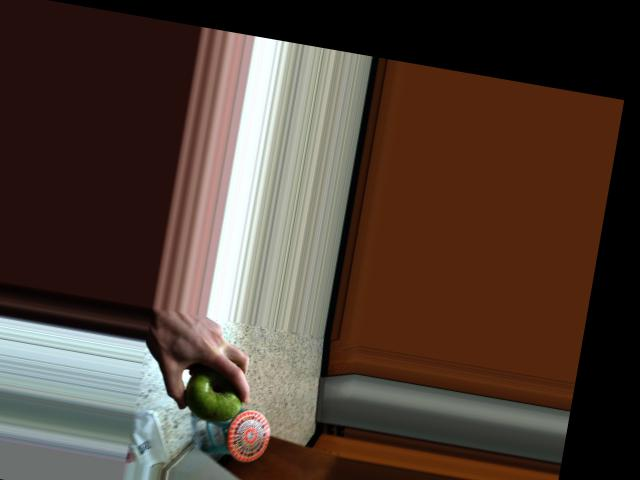apple: (178, 357, 252, 428)
